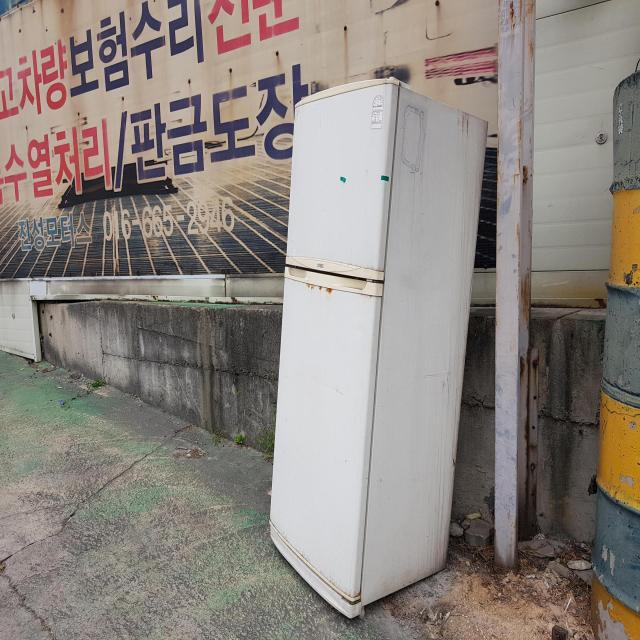refrigerator: (266, 76, 493, 626)
